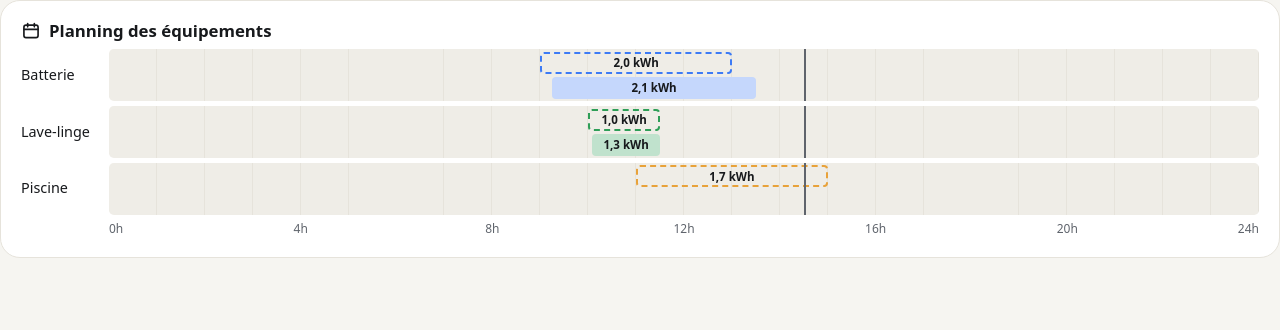
frise des équipements › sans choix possibles (autres jours), garde l'info-bulle au clic sur une prévision
This screenshot has width=1280, height=330.
Click the button with aria-label "Prévu 10h → 11h30 : Lave-linge, 1,00 kWh": click(624, 120) 588,108 -> 660,130
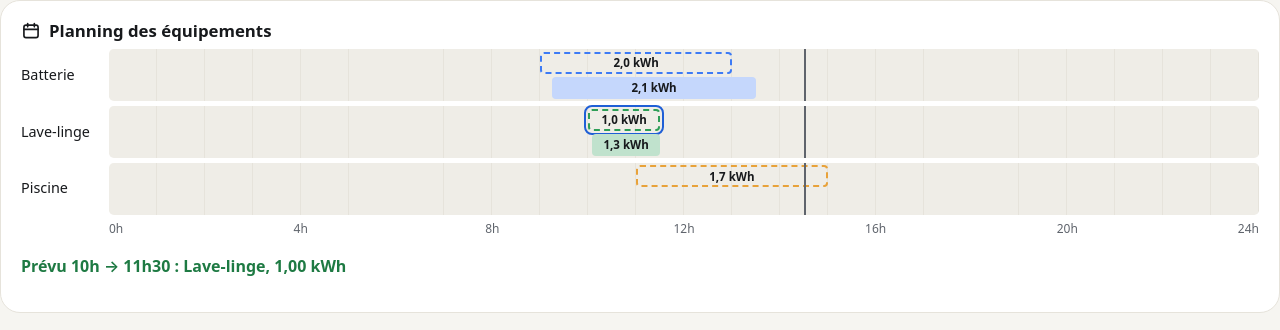
Check: the message reads "Prévu 10h → 11h30 : Lave-linge, 1,00 kWh", box 21,255 -> 346,277
